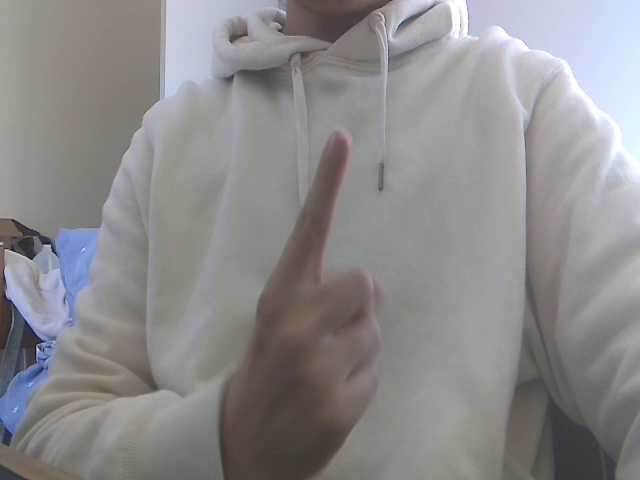hand_gesture_1: (202, 121, 412, 480)
